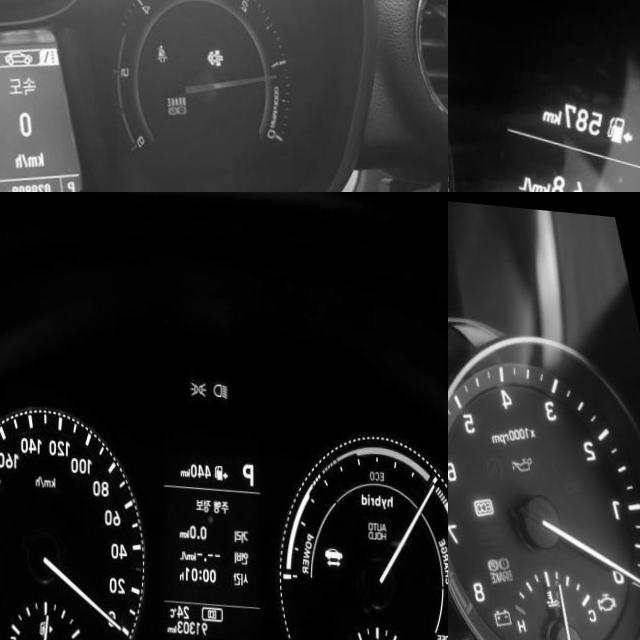Low beam: (215, 376, 229, 393)
SideLamp: (191, 374, 208, 392)
